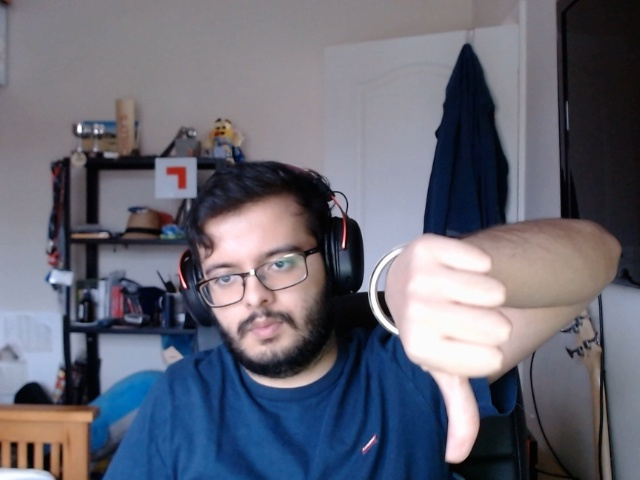Thumbs down: (387, 215, 508, 462)
